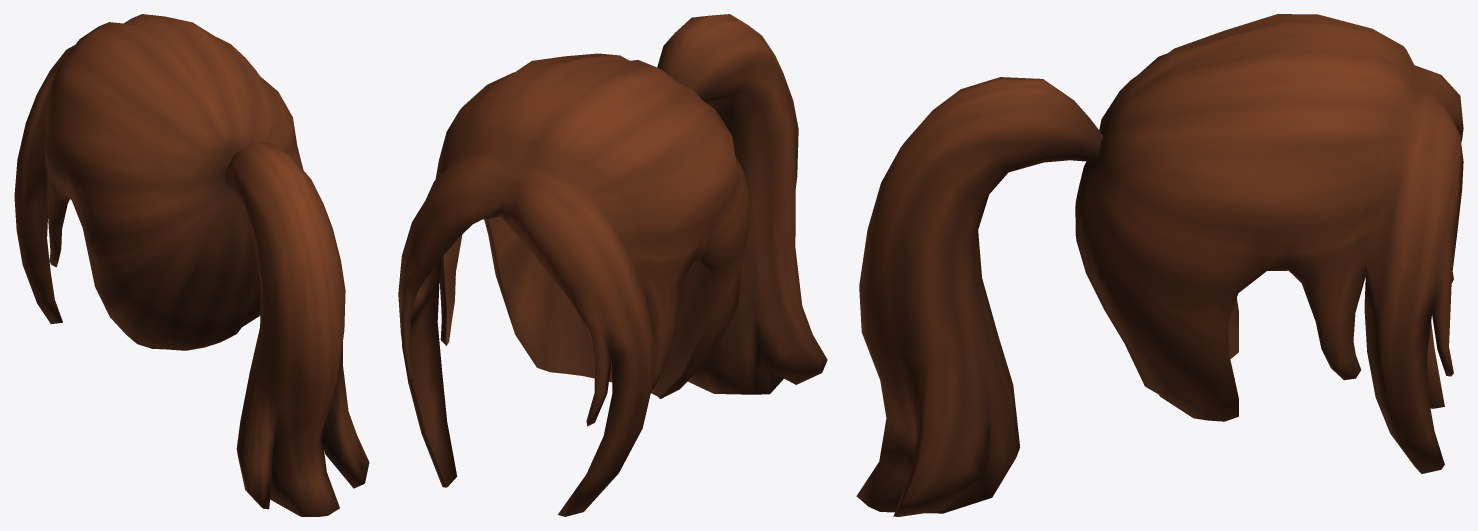
Rendered from Hair_Female_002_textured_brown.glb.
The picture shows the model from 3 angles, left to right: view 1: azimuth 30°, elevation 25°; view 2: azimuth 150°, elevation 25°; view 3: azimuth 270°, elevation 25°; orthographic projection. The views are drawn at different scales.
Parts seen in each view (by area): view 1: Hair_Female_002; view 2: Hair_Female_002; view 3: Hair_Female_002.
Part boxes in pixels (x1,y1,x2,y2): Hair_Female_002: [14, 14, 369, 516]; Hair_Female_002: [398, 14, 827, 516]; Hair_Female_002: [856, 14, 1463, 516].
Size of the model in its own units: 0.1741 by 0.2888 by 0.3351.
1 material, 1 textured.
